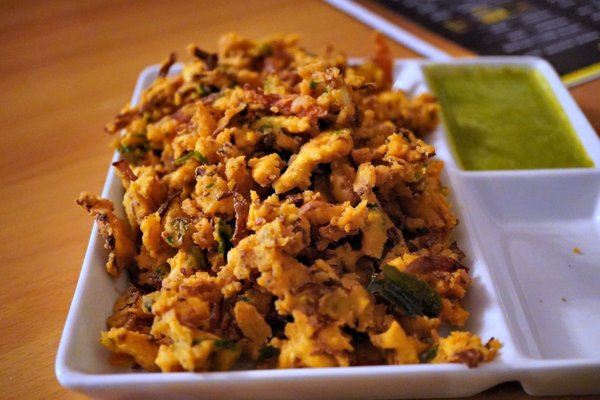curry: (1, 1, 576, 390)
